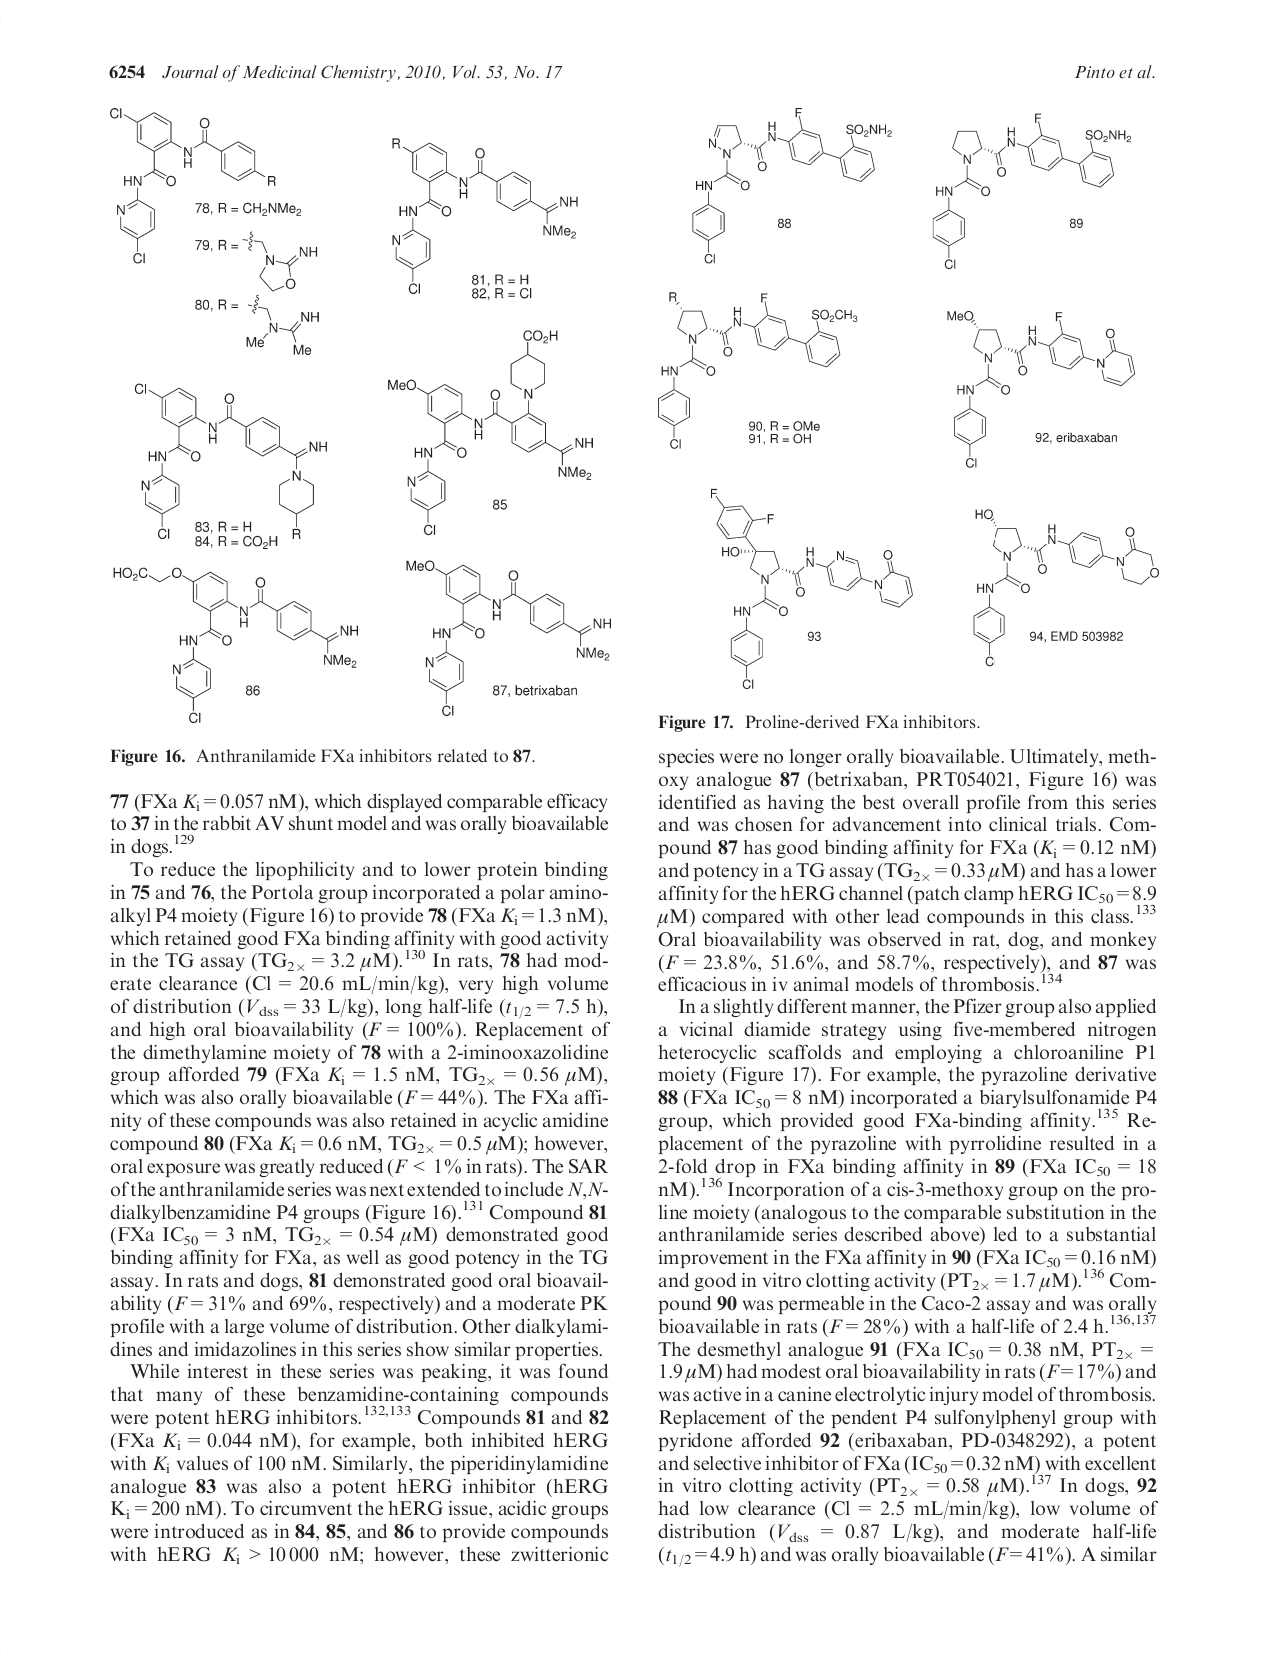exist_molecular: (383, 324, 597, 548), (707, 476, 922, 692), (106, 564, 368, 727), (122, 376, 332, 551), (688, 93, 898, 265), (398, 557, 618, 719), (656, 286, 858, 455), (930, 110, 1142, 270), (382, 132, 582, 298), (968, 503, 1160, 674), (939, 307, 1138, 469), (96, 102, 281, 265), (215, 229, 328, 362)
